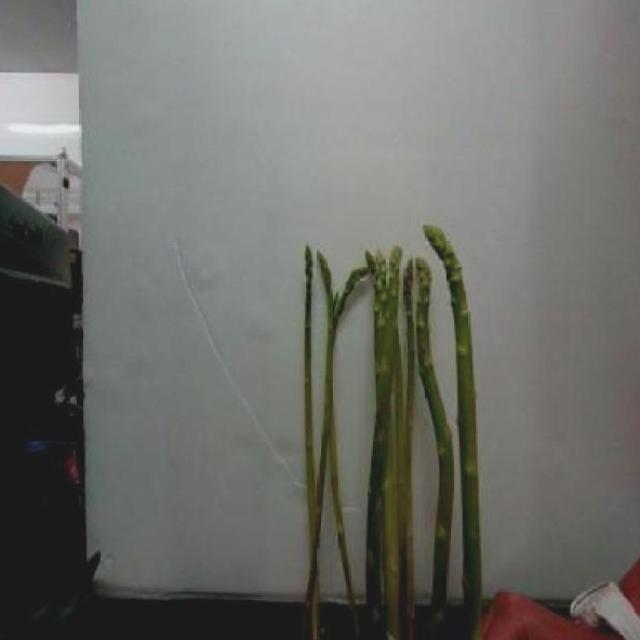aspargus: (297, 264, 374, 640), (423, 225, 481, 640), (415, 258, 456, 640)
